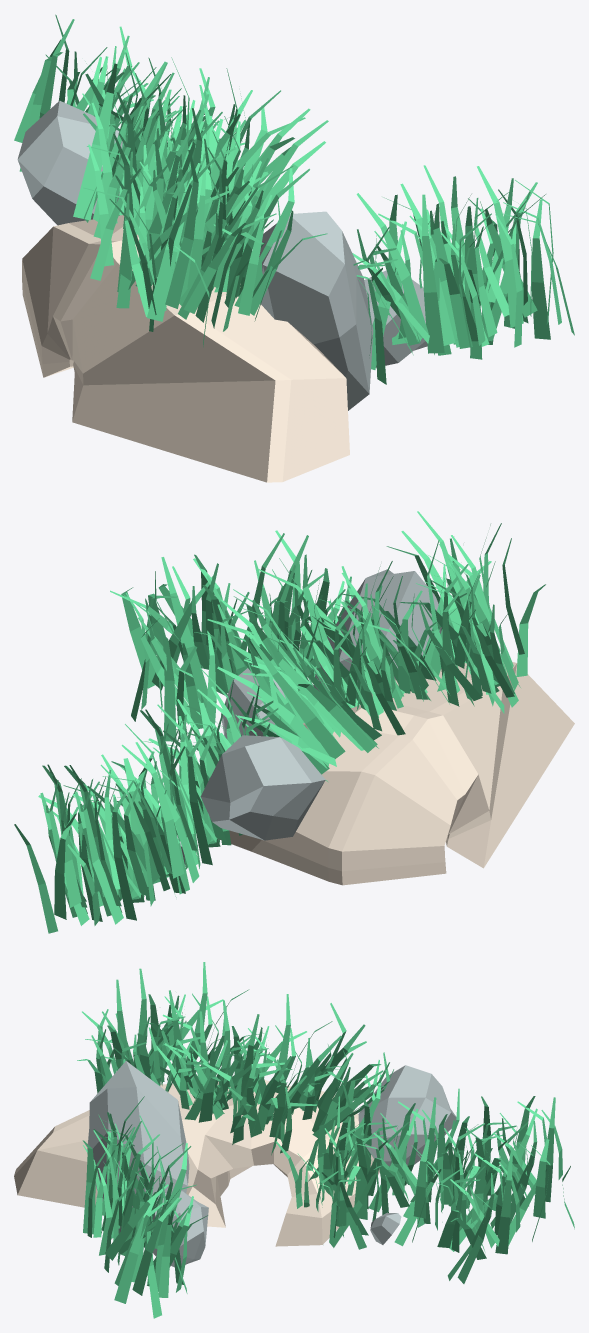
File: 042620shadowCastersMap2.gltf
3 renders of one model, top to bottom at view 1: azimuth 30°, elevation 25°; view 2: azimuth 150°, elevation 25°; view 3: azimuth 270°, elevation 25°, orthographic. The views are drawn at different scales.
Parts seen in each view (by area): view 1: Cube.026, Cube.022, Cube.027, Plane.138, Plane.235, Cube.009, Plane.179, Plane.110, Plane.186, Plane.147, Plane.109, Plane.152 (+30 smaller); view 2: Cube.026, Cube.027, Cube.022, Plane.240, Cube.009, Plane.594, Plane.088, Plane.233, Plane.058, Plane.006, Plane.002, Plane.111 (+33 smaller); view 3: Cube.026, Cube.022, Cube.027, Cube.009, Plane.113, Plane.084, Plane.112, Plane.075, Plane.100, Plane.050, Plane.144, Cube.019 (+23 smaller).
Part boxes in pixels (box(x1,y1,x2,y2)): Cube.026: box(22, 215, 349, 482); Cube.022: box(259, 211, 373, 410); Cube.027: box(17, 100, 122, 225); Plane.138: box(422, 194, 444, 353); Plane.235: box(73, 63, 117, 220); Cube.009: box(364, 270, 427, 367); Plane.179: box(165, 150, 198, 308); Plane.110: box(531, 199, 550, 339); Plane.186: box(147, 163, 200, 321); Plane.147: box(356, 193, 428, 341); Plane.109: box(477, 166, 523, 327); Plane.152: box(238, 194, 272, 315); Cube.026: box(218, 662, 574, 885); Cube.027: box(200, 735, 325, 840); Cube.022: box(313, 569, 442, 693); Plane.240: box(250, 638, 345, 758); Cube.009: box(221, 664, 285, 742); Plane.594: box(135, 742, 184, 878); Plane.088: box(161, 557, 207, 703); Plane.233: box(217, 666, 329, 768); Plane.058: box(188, 725, 212, 865); Plane.006: box(112, 780, 136, 920); Plane.002: box(83, 779, 123, 924); Plane.111: box(151, 624, 176, 741); Cube.026: box(14, 1079, 379, 1246); Cube.022: box(87, 1061, 189, 1247); Cube.027: box(358, 1065, 456, 1166); Cube.009: box(152, 1191, 208, 1267); Plane.113: box(114, 1199, 155, 1303); Plane.084: box(495, 1149, 512, 1254); Plane.112: box(132, 1197, 179, 1295); Plane.075: box(533, 1139, 549, 1218); Plane.100: box(105, 1184, 168, 1260); Plane.050: box(413, 1139, 429, 1218); Plane.144: box(82, 1140, 95, 1234); Cube.019: box(370, 1212, 401, 1244).
Bounding box in the file's own units: 51.4 × 35.3 × 76.27.
